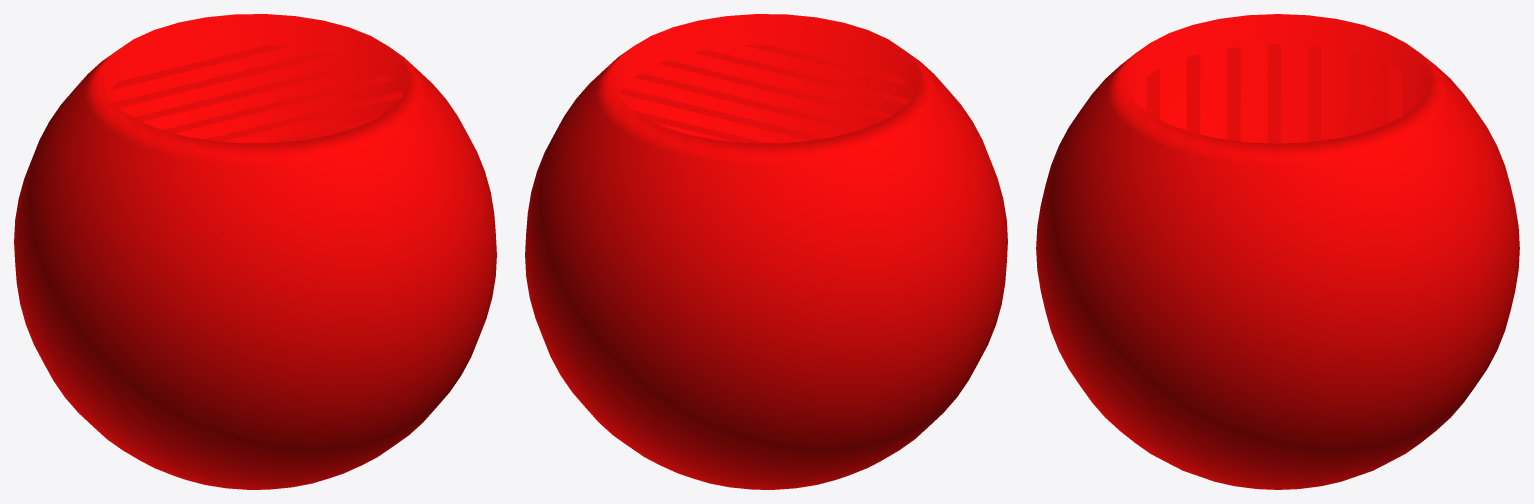
Rendered from spot.obj.
The picture shows the model from 3 angles, left to right: view 1: azimuth 30°, elevation 25°; view 2: azimuth 150°, elevation 25°; view 3: azimuth 270°, elevation 25°; orthographic projection.
Parts seen in each view (by area): view 1: Sphere; view 2: Sphere; view 3: Sphere.
Boxes of the visible parts, left/top/right/bottom form: Sphere: left=14, top=14, right=496, bottom=489; Sphere: left=525, top=14, right=1007, bottom=489; Sphere: left=1036, top=14, right=1519, bottom=489.
Bounding box in the file's own units: 2 × 1.77 × 2.
